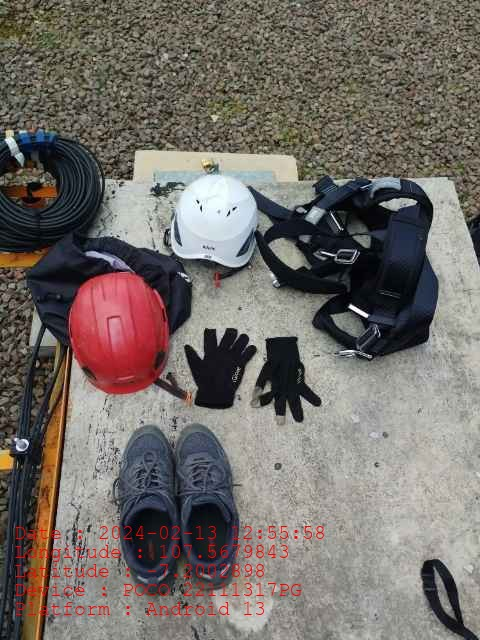HELM: (66, 270, 170, 395), (170, 173, 258, 267)
SARUNG_TANGAN: (254, 337, 322, 424), (183, 327, 255, 408)
